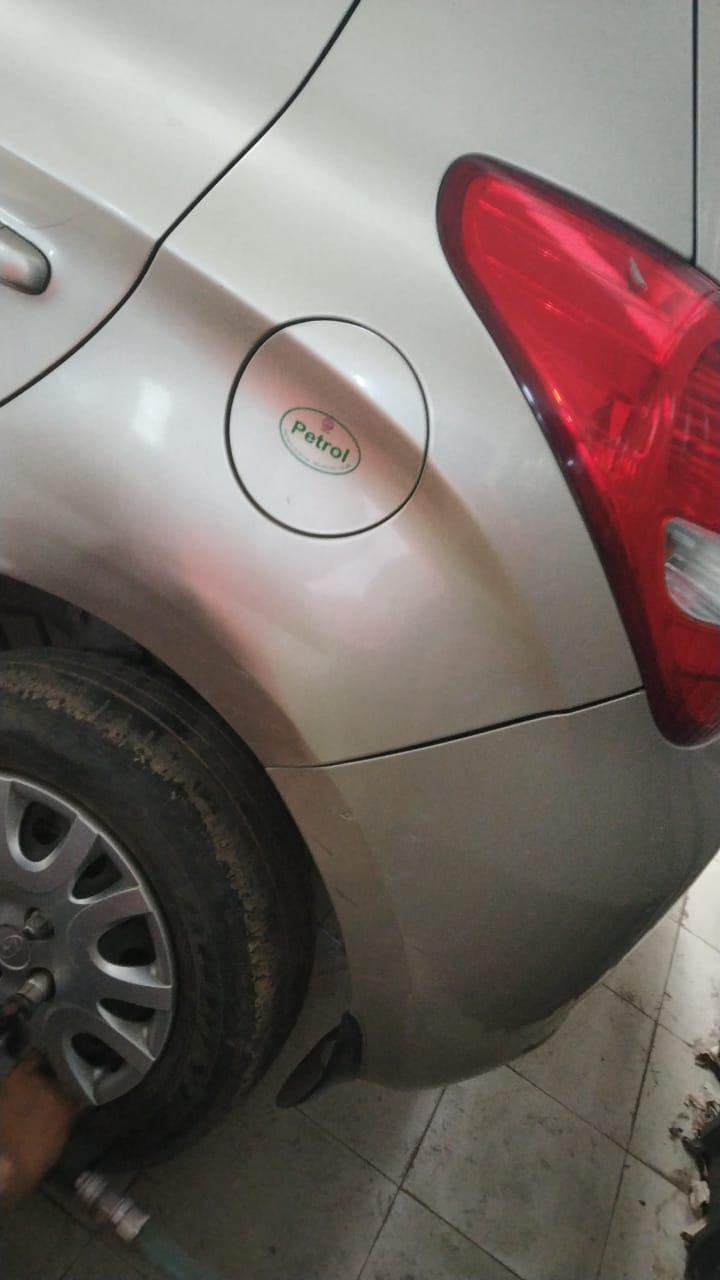quaterpanel-dent: (11, 235, 666, 758)
